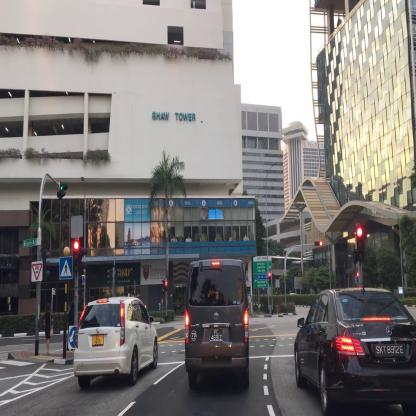red_traffic_light: (356, 226, 365, 260), (73, 241, 80, 272), (268, 271, 271, 284), (315, 241, 322, 245)
